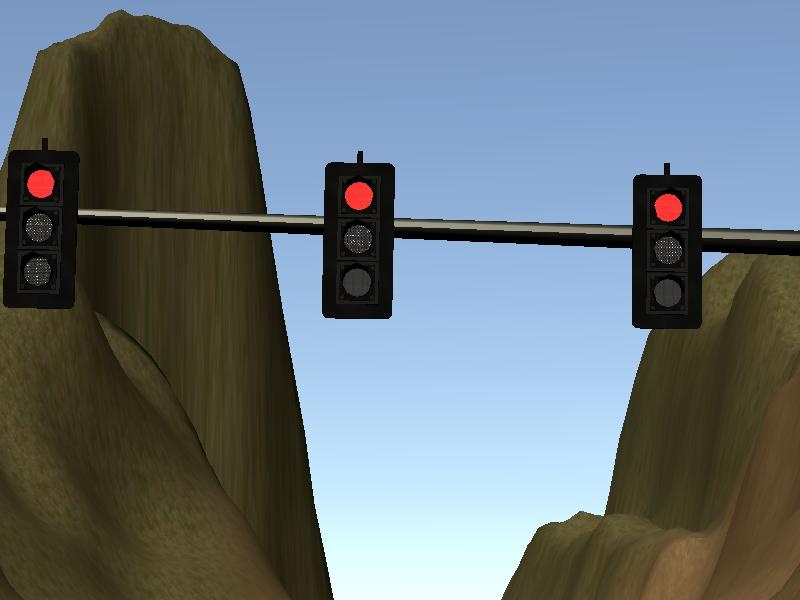RED: (2, 148, 80, 312), (629, 174, 706, 332), (320, 160, 397, 318)
